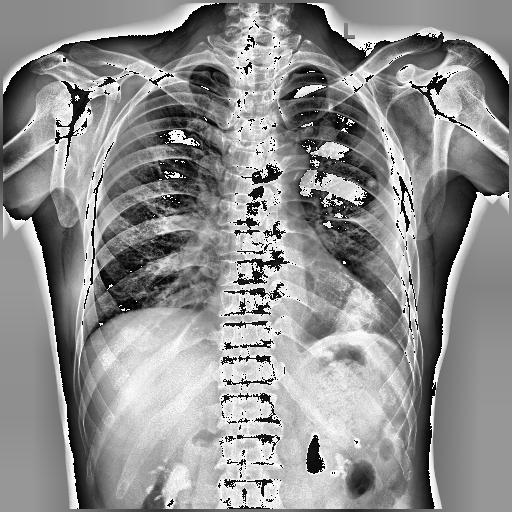0- Aortic enlargement: (264, 138, 308, 180), (269, 142, 310, 182)
10- Pleural effusion: (399, 343, 418, 374)
11- Pleural thickening: (399, 343, 418, 374)
13- Pulmonary fibrosis: (329, 174, 390, 256), (324, 208, 378, 224), (318, 210, 372, 222)
2- Calcification: (367, 176, 377, 188), (367, 178, 376, 188), (327, 101, 333, 112)
3- Cardiomegaly: (206, 268, 386, 332), (208, 270, 380, 336), (198, 282, 386, 334)
7- Lung Opacity: (351, 216, 405, 338)
8- Nodule-Mass: (328, 101, 334, 114)
